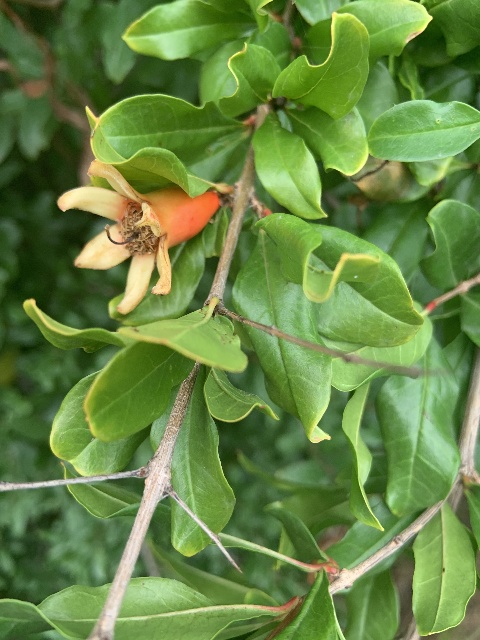flower: (56, 158, 220, 314)
